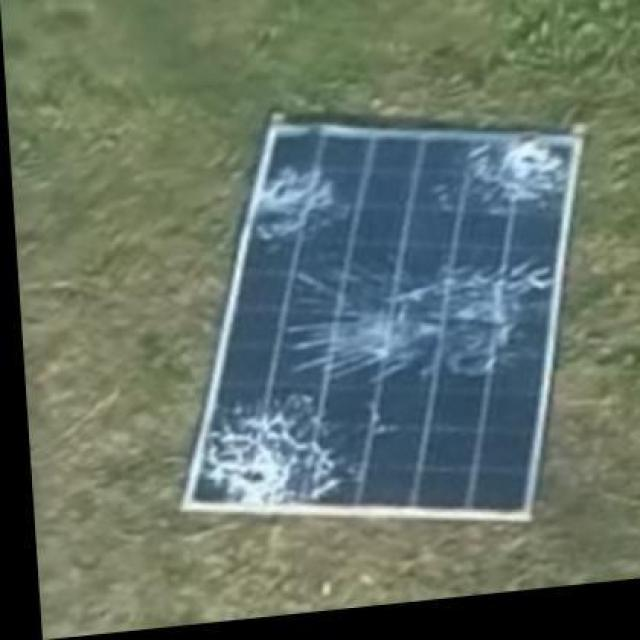cracked: (187, 110, 590, 528)
